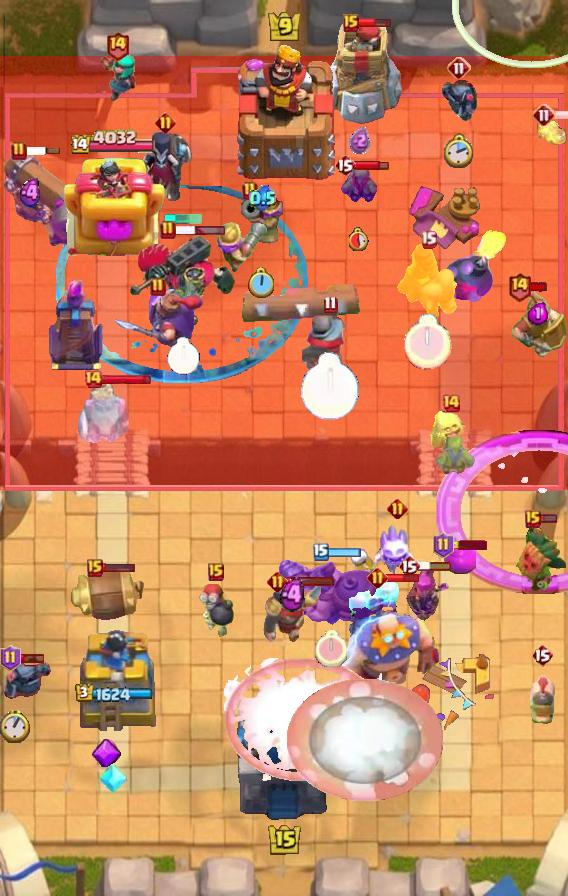archer-evolution: (401, 567, 451, 627)
bar: (101, 373, 152, 386), (174, 225, 226, 236), (285, 576, 335, 587), (10, 652, 46, 664), (417, 560, 453, 572), (386, 572, 421, 584), (354, 159, 389, 171), (357, 17, 392, 29), (101, 562, 136, 573), (327, 547, 362, 558), (451, 540, 487, 550), (25, 146, 61, 156), (530, 281, 549, 293), (539, 513, 558, 524), (554, 109, 568, 121)
bar-level: (507, 271, 532, 302), (105, 30, 130, 61), (532, 103, 556, 127), (447, 56, 471, 80), (0, 645, 21, 671), (433, 532, 454, 558), (531, 643, 553, 667), (398, 554, 420, 578), (334, 153, 356, 177), (267, 571, 288, 592), (367, 567, 388, 588), (387, 498, 408, 519), (155, 112, 176, 133), (441, 393, 461, 413), (83, 369, 103, 389), (420, 230, 437, 249), (150, 277, 166, 297), (160, 220, 176, 240), (242, 181, 258, 201), (11, 141, 27, 161), (208, 563, 224, 581), (87, 559, 103, 577), (313, 543, 329, 561), (525, 510, 541, 528), (343, 14, 359, 32), (323, 295, 338, 314)
barbarian-barrel: (67, 568, 147, 622)
bomb: (440, 228, 512, 302)
bomber: (198, 584, 234, 638)
clock: (300, 352, 360, 421), (404, 314, 452, 370), (167, 337, 200, 375), (315, 630, 347, 667), (444, 133, 475, 170), (0, 709, 30, 743), (248, 267, 276, 300), (349, 227, 369, 251)
dart-goblin: (510, 521, 568, 597)
elixir: (280, 577, 305, 613), (17, 178, 45, 208), (249, 185, 276, 212), (349, 127, 370, 154), (528, 302, 548, 325)
elixir-golem-small: (444, 544, 476, 574)
evolution-symbol: (91, 739, 121, 767)
goblin: (431, 437, 475, 479), (340, 162, 378, 202)
heal-spirit: (430, 407, 472, 451)
ice-spirit-evolution: (375, 521, 419, 575)
ice-spirit-evolution-symbol: (99, 761, 127, 795)
king-tower: (230, 43, 338, 181), (232, 686, 336, 826)
knight: (263, 581, 321, 644), (302, 312, 358, 376)
lava-pup: (534, 119, 568, 151)
mini-pekka: (0, 658, 52, 702), (438, 78, 480, 122)
musketeer: (241, 191, 283, 259), (217, 219, 267, 273)
night-witch: (136, 129, 194, 201)
queen-tower: (64, 621, 164, 731), (62, 156, 166, 256)
ram-rider: (396, 242, 460, 322)
rascal-girl: (96, 51, 138, 103)
royal-ghost: (76, 382, 132, 448)
royal-hog: (527, 669, 557, 725)
royal-recruit: (509, 287, 567, 357)
skeleton: (349, 549, 379, 581)
the-log: (239, 284, 363, 324)
tower-bar: (71, 129, 158, 157), (75, 683, 153, 703)
